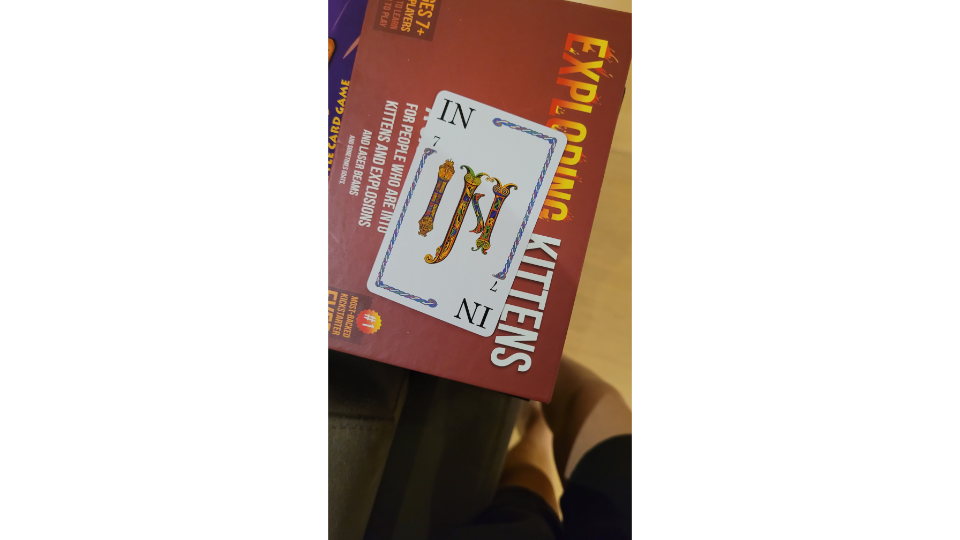IN: (364, 86, 570, 339)
